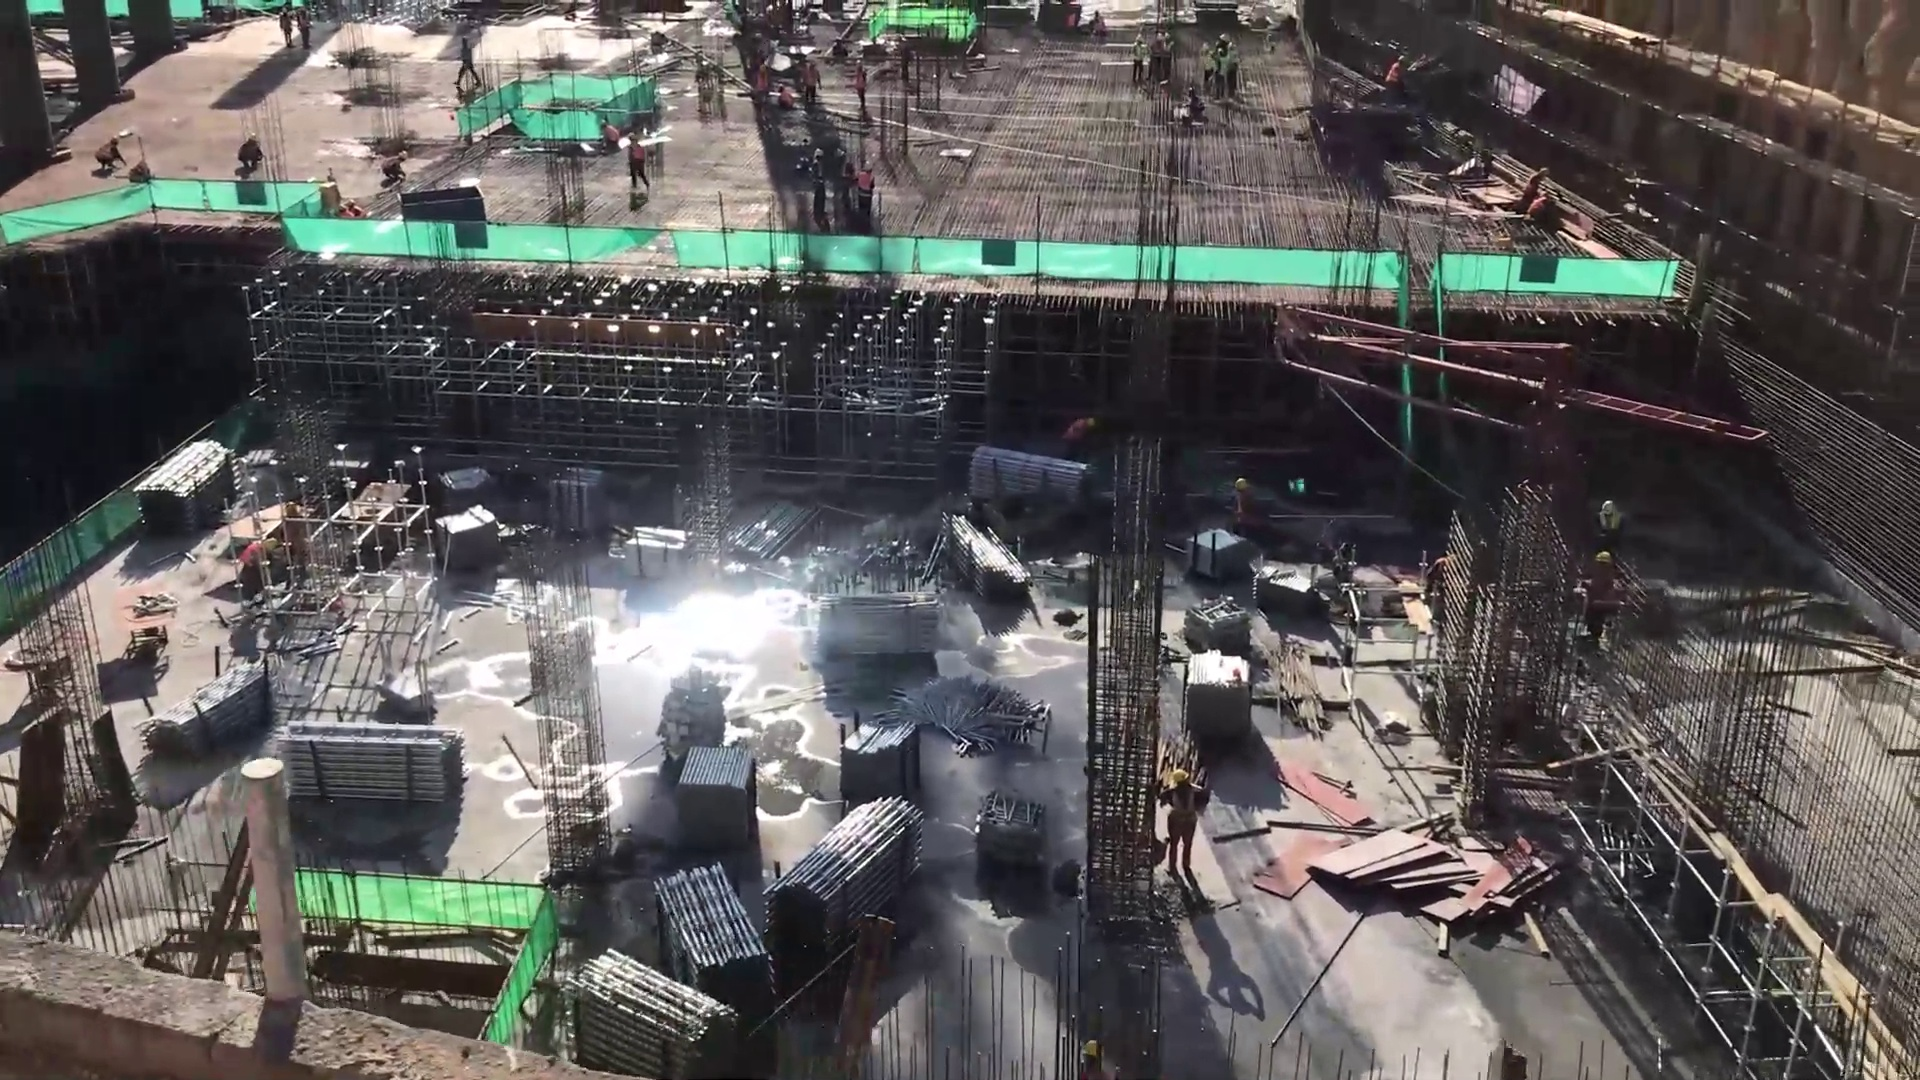board: (1317, 827, 1479, 900)
helmet: (1171, 769, 1191, 781)
person: (1159, 771, 1218, 888), (1587, 551, 1628, 660), (1222, 475, 1262, 551), (447, 29, 486, 92), (1060, 404, 1095, 468), (239, 538, 286, 582), (377, 150, 418, 193), (809, 144, 826, 232), (625, 129, 649, 191), (231, 134, 266, 175), (1073, 1037, 1107, 1080), (1590, 494, 1625, 536), (1213, 33, 1230, 111), (855, 156, 874, 223), (1527, 162, 1549, 222), (832, 145, 849, 220), (94, 129, 123, 171), (1384, 52, 1408, 100), (851, 57, 869, 117), (273, 3, 292, 58), (297, 3, 316, 54), (1533, 190, 1556, 234), (1184, 86, 1205, 129), (800, 63, 823, 101), (754, 62, 768, 121), (1164, 30, 1177, 89), (1198, 41, 1212, 93), (596, 117, 621, 146), (1131, 32, 1146, 82), (1086, 5, 1107, 41), (1149, 30, 1161, 83), (775, 78, 791, 110)
scaffold: (786, 793, 917, 942), (571, 946, 731, 1061), (282, 714, 467, 801), (667, 864, 762, 983), (154, 668, 266, 754), (682, 746, 756, 849), (945, 517, 1027, 604), (150, 434, 223, 516), (842, 720, 917, 793)
